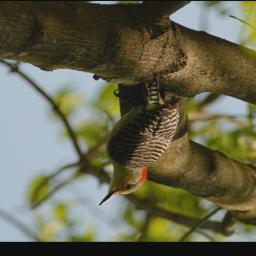Woodpecker: (97, 73, 181, 206)
